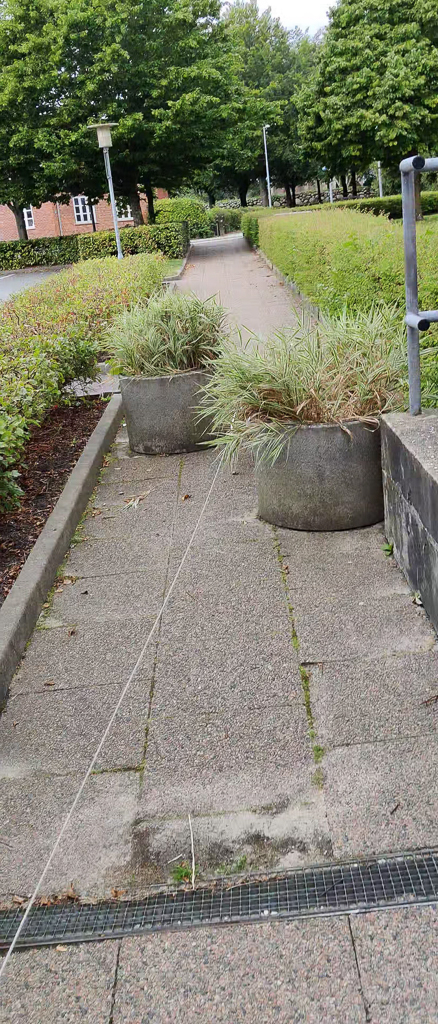Dog: (224, 406, 251, 479)
